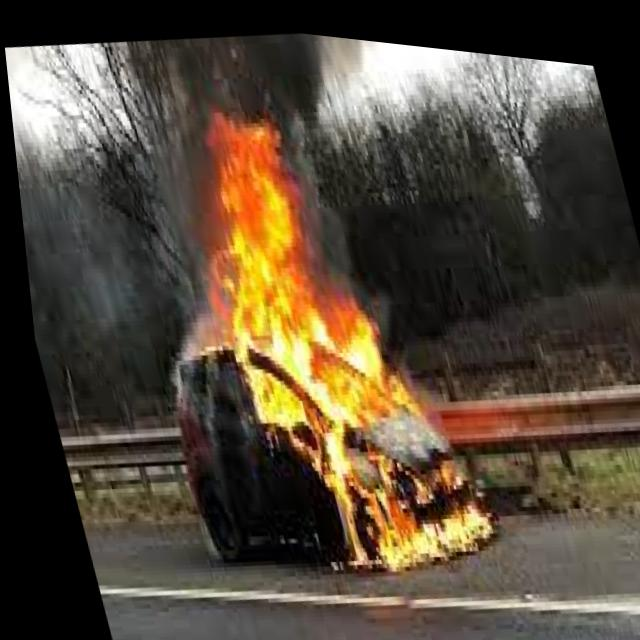Fire: (162, 89, 430, 564), (424, 492, 488, 546)
